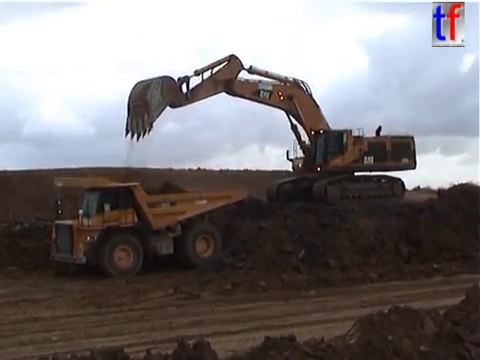excavator: (122, 52, 419, 208)
truck: (42, 174, 248, 277)
